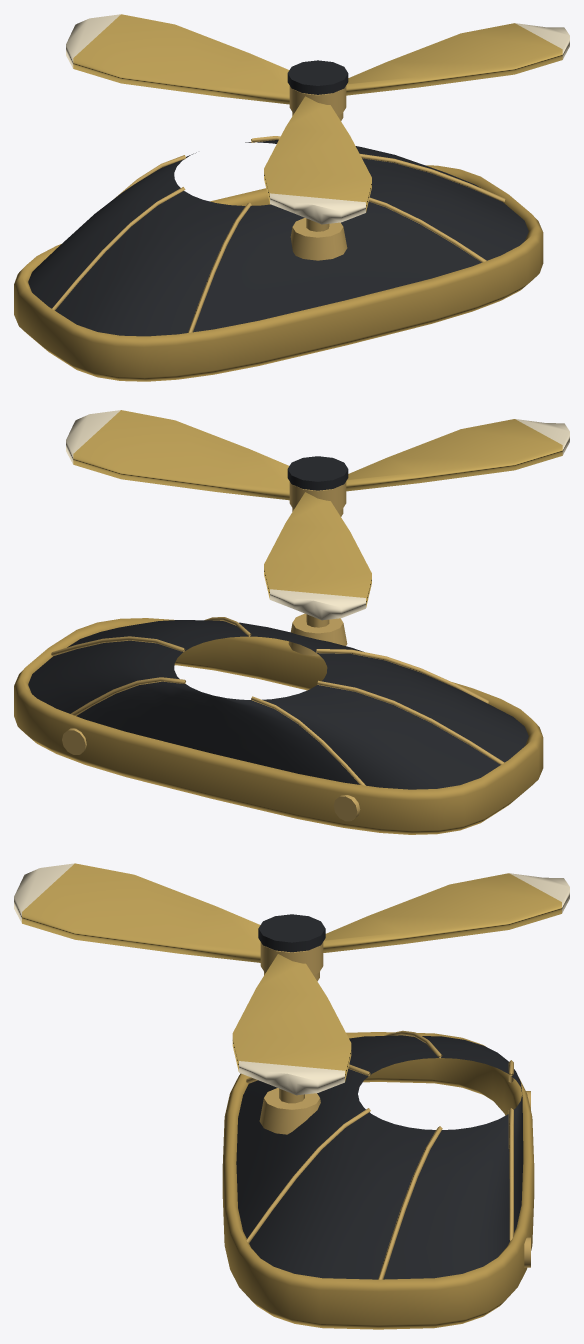
File: glide-switchboard-beanie.glb
3 views of the same model, one above another, from view 1: azimuth 30°, elevation 25°; view 2: azimuth 150°, elevation 25°; view 3: azimuth 270°, elevation 25° (orthographic). The views are drawn at different scales.
Visible parts, largest first — view 1: glide-switchboard-beanie, spin; view 2: glide-switchboard-beanie, spin; view 3: glide-switchboard-beanie, spin.
Boxes of the visible parts, left/top/right/bottom form: glide-switchboard-beanie: left=14, top=112, right=543, bottom=381; spin: left=66, top=14, right=569, bottom=224; glide-switchboard-beanie: left=14, top=508, right=543, bottom=834; spin: left=66, top=410, right=569, bottom=620; glide-switchboard-beanie: left=222, top=972, right=534, bottom=1329; spin: left=14, top=863, right=569, bottom=1095.
Size of the model in its own units: 0.566 by 0.283 by 0.5142.
